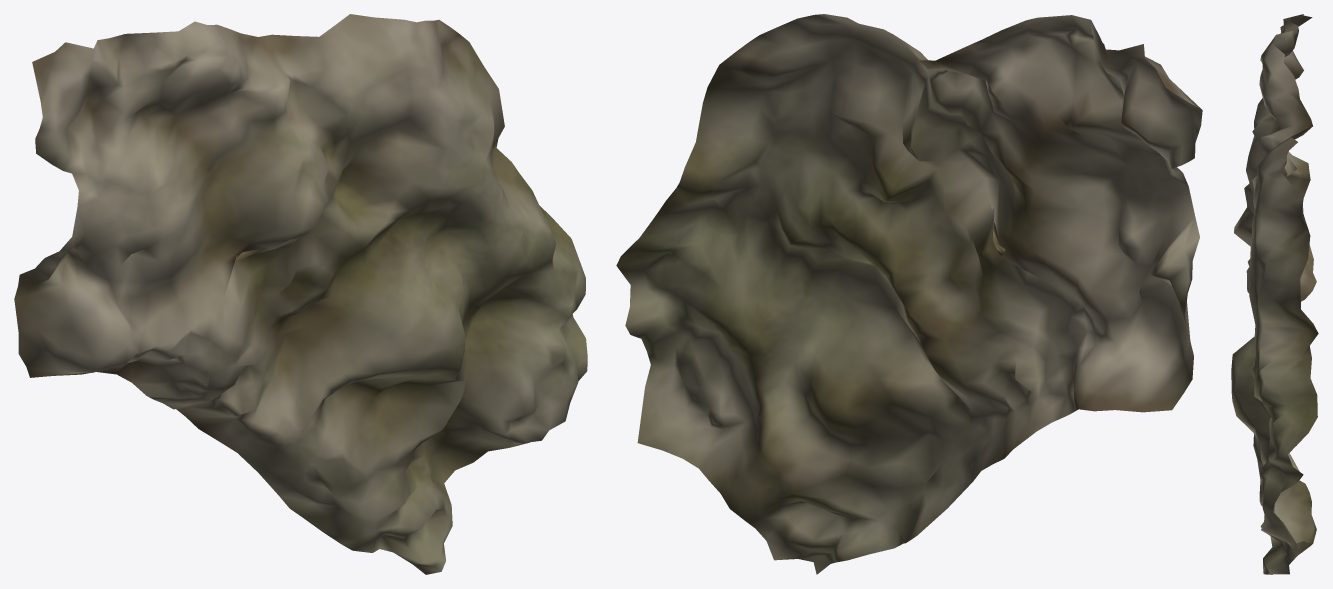
File: Barnacle07.fbx
3 views of the same model, side by side, from view 1: azimuth 30°, elevation 25°; view 2: azimuth 150°, elevation 25°; view 3: azimuth 270°, elevation 25° (orthographic). The views are drawn at different scales.
Visible parts, largest first — view 1: Barnacle07; view 2: Barnacle07; view 3: Barnacle07.
Boxes of the visible parts, x1,y1,x2,y2 form: Barnacle07: [14, 14, 587, 574]; Barnacle07: [616, 14, 1202, 574]; Barnacle07: [1231, 14, 1318, 574].
Size of the model in its own units: 49.38 by 51.33 by 9.14.
